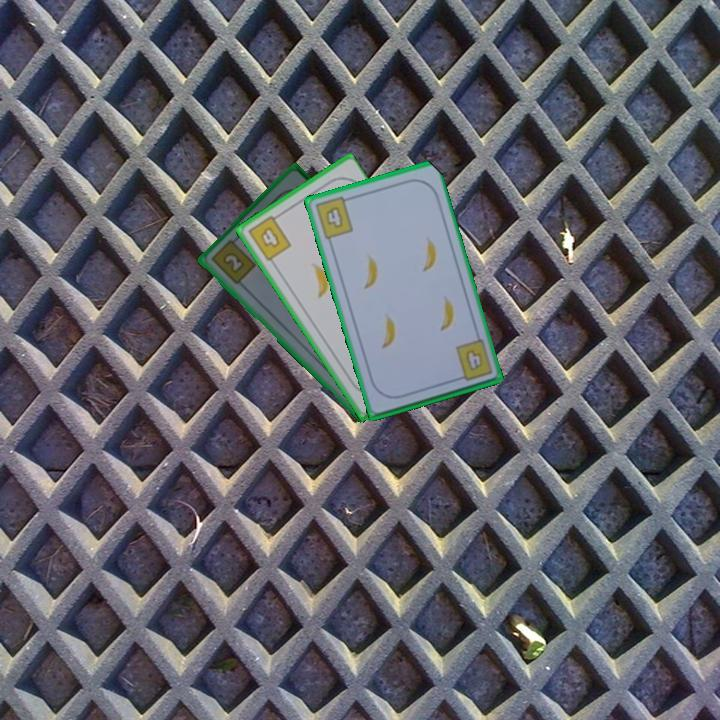2b: (207, 234, 258, 287)
4b: (244, 210, 294, 264), (311, 193, 356, 242), (451, 336, 495, 384)
